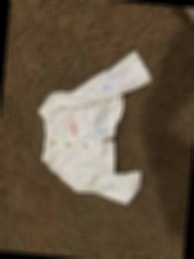ink: (102, 82, 115, 91), (100, 130, 106, 135), (109, 183, 113, 188)
